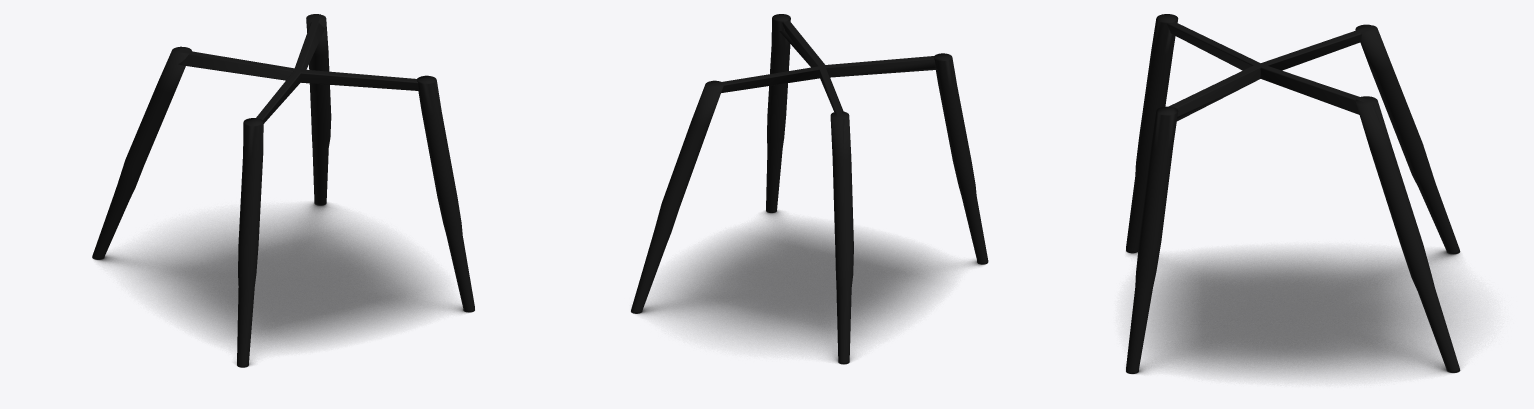
The model's file is Okrągłe.glb.
The picture shows the model from 3 angles, left to right: view 1: azimuth 30°, elevation 25°; view 2: azimuth 150°, elevation 25°; view 3: azimuth 270°, elevation 25°; orthographic projection. The views are drawn at different scales.
Parts seen in each view (by area): view 1: Shadow001, legs; view 2: Shadow001, legs; view 3: Shadow001, legs.
Part boxes in pixels (<box>): Shadow001: <box>94,202,470,366</box>; legs: <box>92,14,474,367</box>; Shadow001: <box>638,210,984,363</box>; legs: <box>631,14,988,364</box>; Shadow001: <box>1126,249,1465,377</box>; legs: <box>1126,14,1460,373</box>.
Size of the model in its own units: 0.6039 by 0.4029 by 0.6506.
2 materials, 1 textured.
